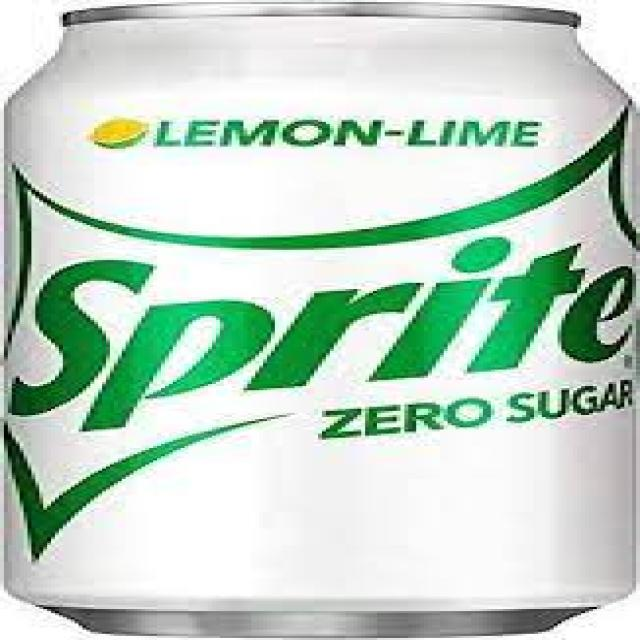aluminum_can: (8, 2, 632, 637)
